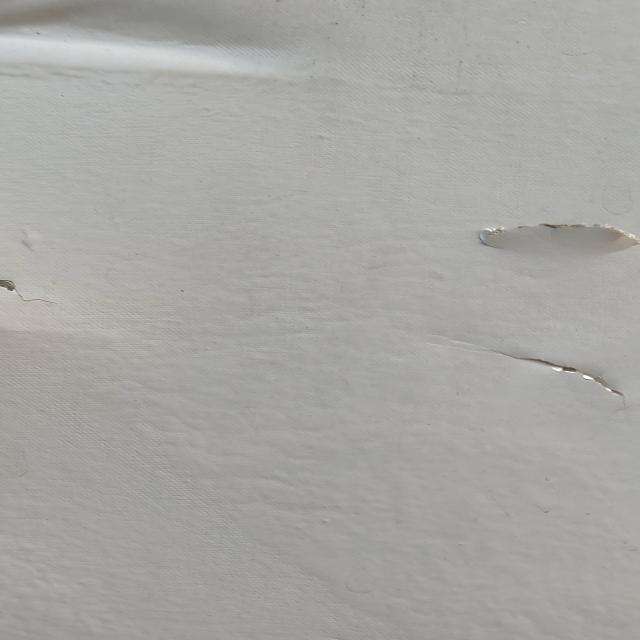Dents or Deformation: (1, 1, 364, 90), (421, 177, 640, 263)
Scratches: (465, 315, 640, 429), (1, 247, 82, 314)
